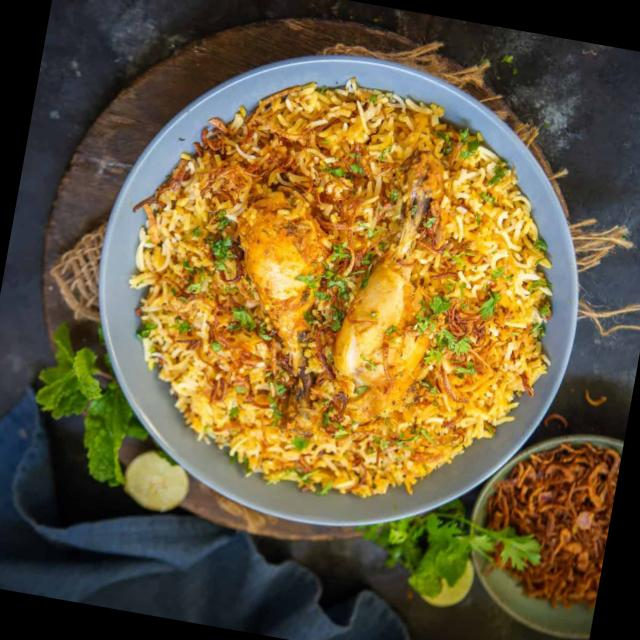Biryani: (65, 41, 588, 570)
